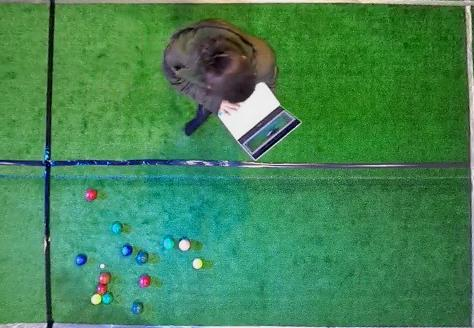blue: (75, 254, 87, 266), (121, 245, 133, 256)
green: (136, 251, 149, 264), (131, 302, 143, 314), (112, 222, 123, 234), (163, 238, 174, 249), (102, 294, 113, 304)
red: (139, 275, 151, 287), (99, 272, 111, 284), (85, 189, 97, 201), (179, 239, 190, 251), (97, 284, 107, 294)
vline: (1, 0, 56, 327), (462, 0, 473, 328)
white: (100, 264, 105, 268)
yellow: (91, 294, 102, 305), (193, 259, 203, 269)
